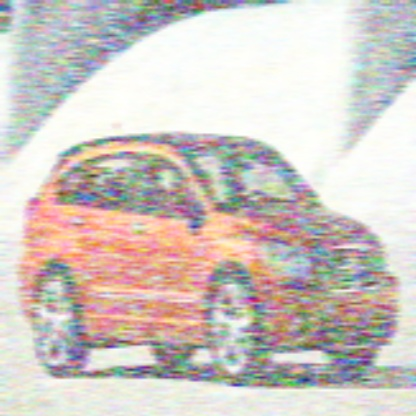Vehicle: (19, 122, 400, 384)
